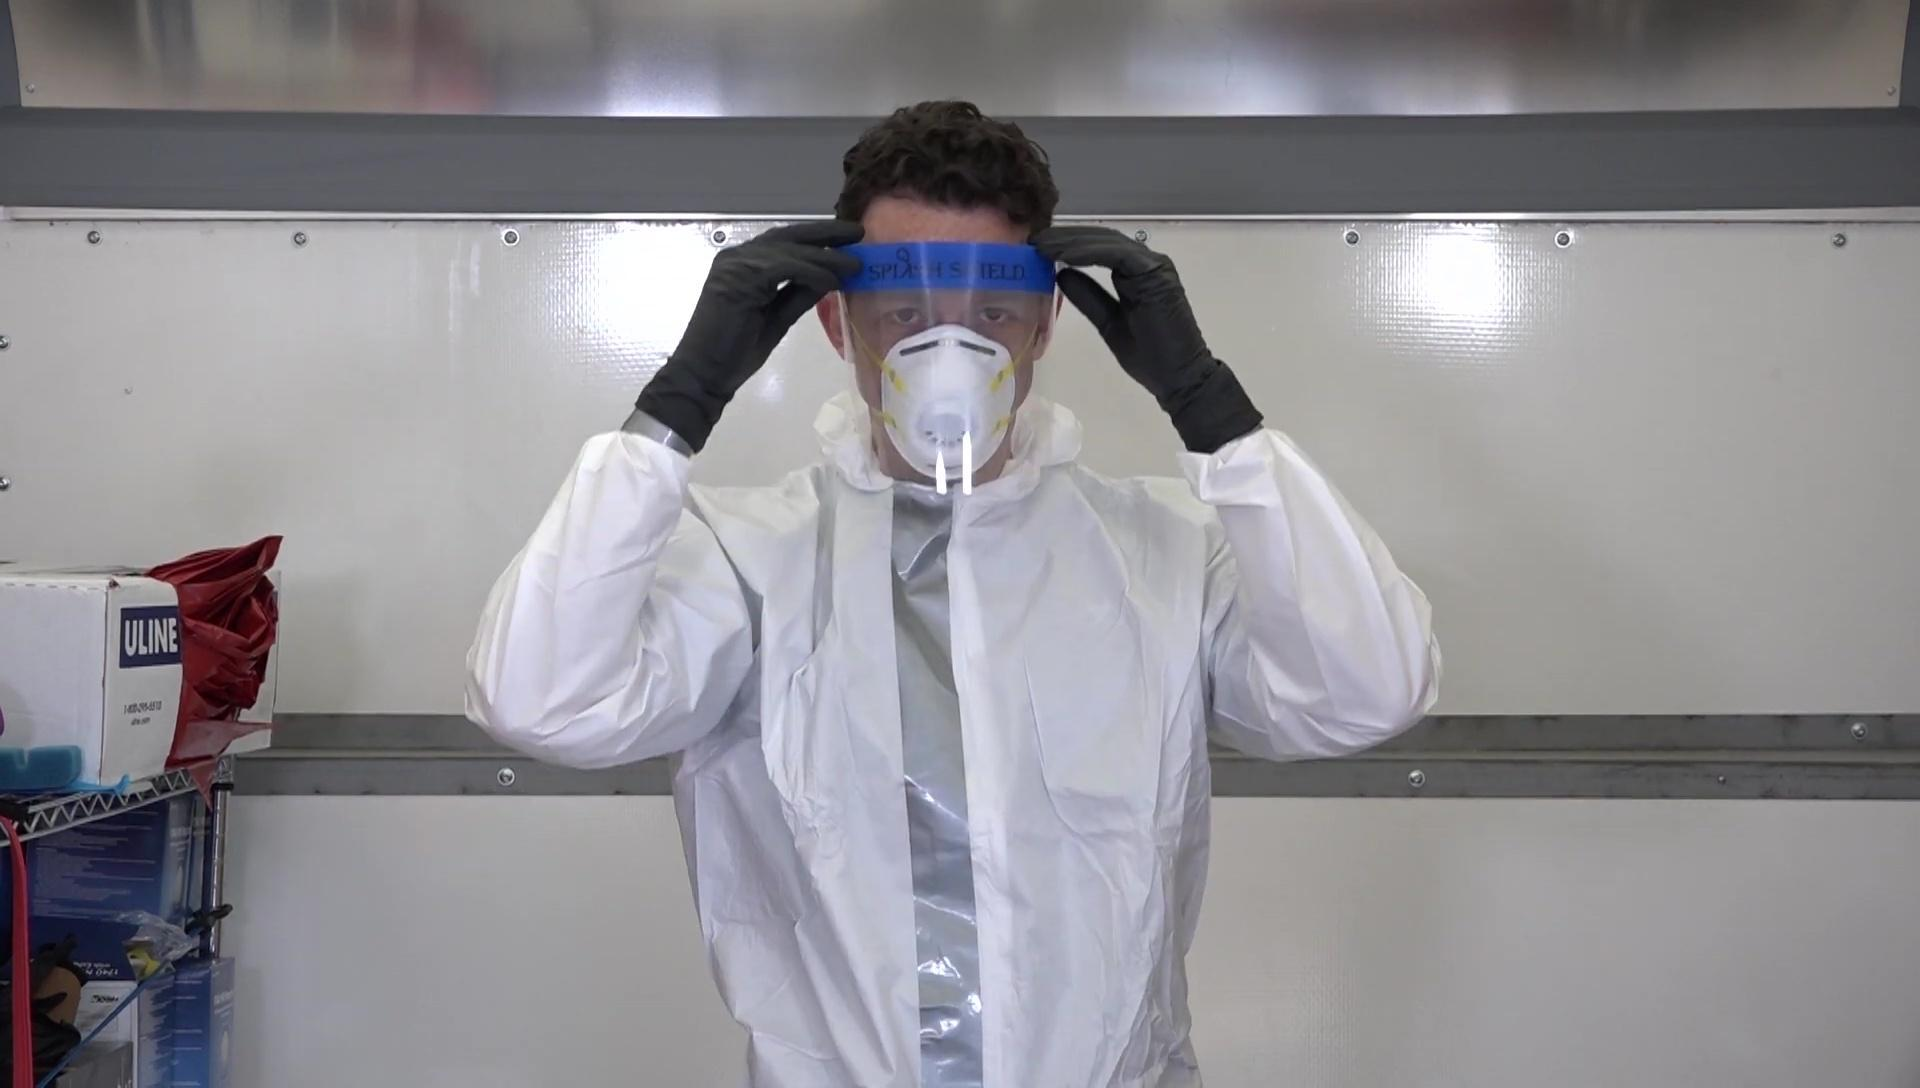Face_Shield: (820, 235, 1068, 518)
Gloves: (633, 217, 863, 454), (1025, 223, 1260, 450)
